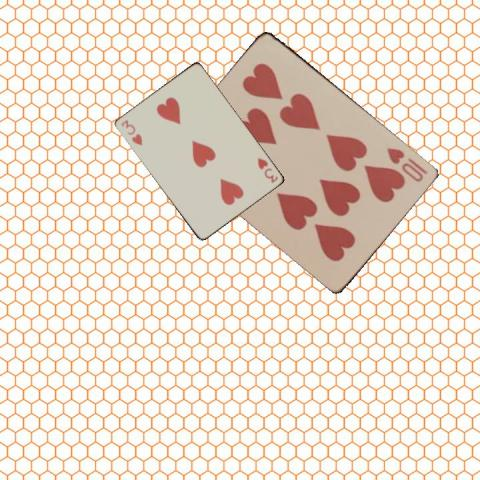10h: (384, 144, 429, 183)
3h: (118, 117, 143, 146), (254, 155, 279, 184)
